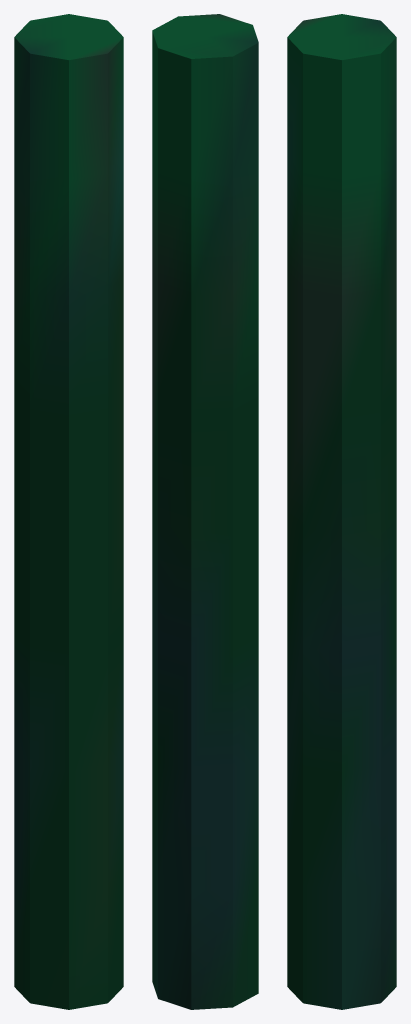
Rendered from 05 stem color.fbx.
The picture shows the model from 3 angles, left to right: view 1: azimuth 90°, elevation 25°; view 2: azimuth 210°, elevation 25°; view 3: azimuth 270°, elevation 25°; orthographic projection.
Visible parts, largest first — view 1: stem; view 2: stem; view 3: stem.
Boxes of the visible parts, x1,y1,x2,y2 form: stem: [14, 14, 123, 1009]; stem: [152, 14, 258, 1009]; stem: [287, 14, 396, 1009].
Bounding box in the file's own units: 21.71 × 21.71 × 208.
